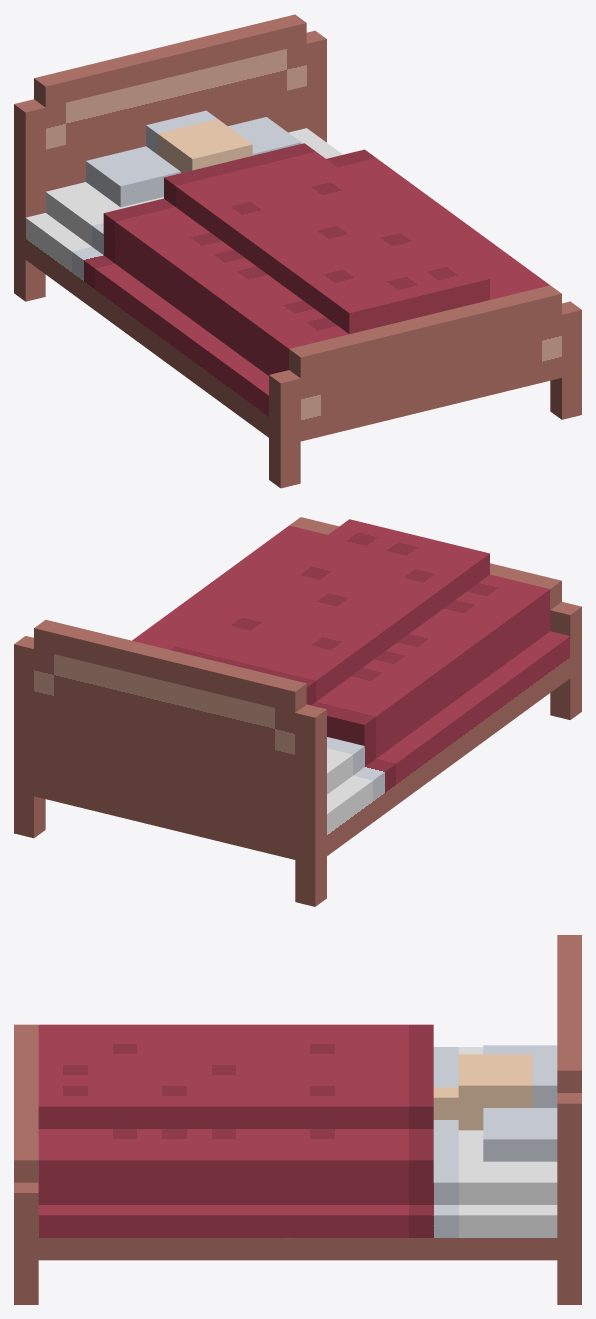
The model's file is bed.obj.
The picture shows the model from 3 angles, top to bottom: view 1: azimuth 30°, elevation 25°; view 2: azimuth 150°, elevation 25°; view 3: azimuth 270°, elevation 25°; orthographic projection. The views are drawn at different scales.
Parts seen in each view (by area): view 1: bed; view 2: bed; view 3: bed.
Boxes of the visible parts, box(x1,y1,x2,y2) form: bed: box(14, 14, 581, 488); bed: box(14, 517, 581, 906); bed: box(14, 935, 581, 1304).
Size of the model in its own units: 1.5 by 1 by 2.3.
Materials: 1 (1 with a texture image).
